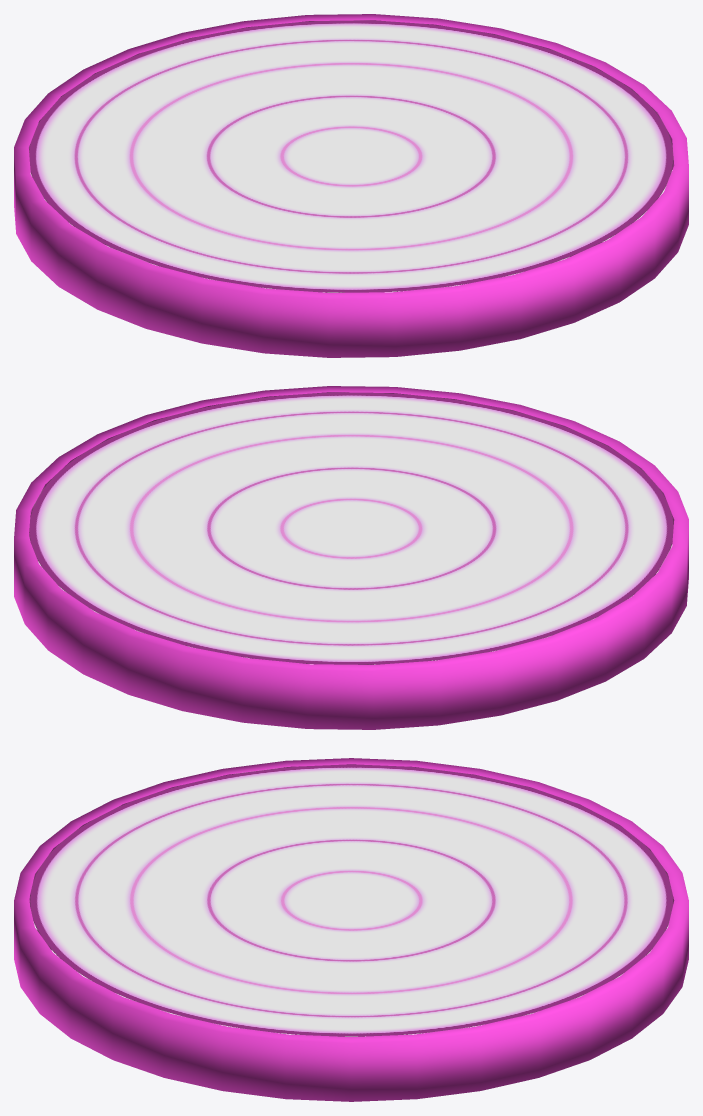
Rendered from OnionSlice.fbx.
3 views of the same model, one above another, from view 1: azimuth 30°, elevation 25°; view 2: azimuth 150°, elevation 25°; view 3: azimuth 270°, elevation 25° (orthographic).
Visible parts, largest first — view 1: OnionSlice; view 2: OnionSlice; view 3: OnionSlice.
Boxes of the visible parts, x1,y1,x2,y2 form: OnionSlice: (14,14,688,357); OnionSlice: (14,386,688,729); OnionSlice: (14,758,688,1101).
Bounding box in the file's own units: 33 × 3.16 × 33.
